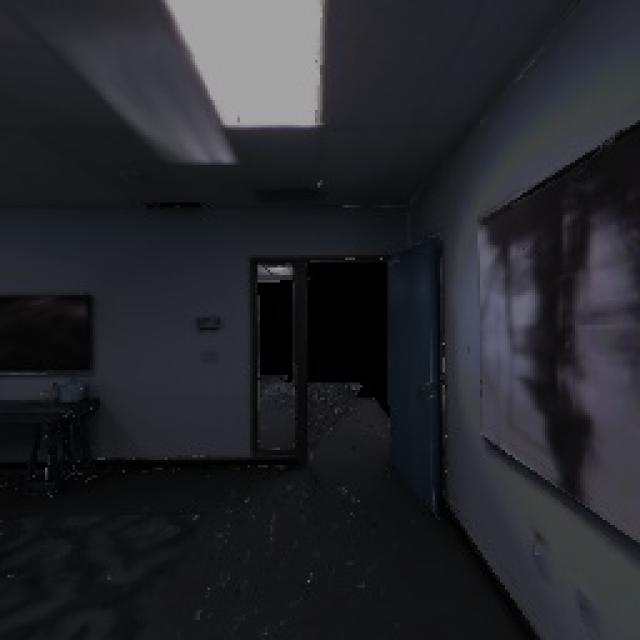door: (378, 240, 456, 518)
door-frame: (276, 247, 406, 480)
